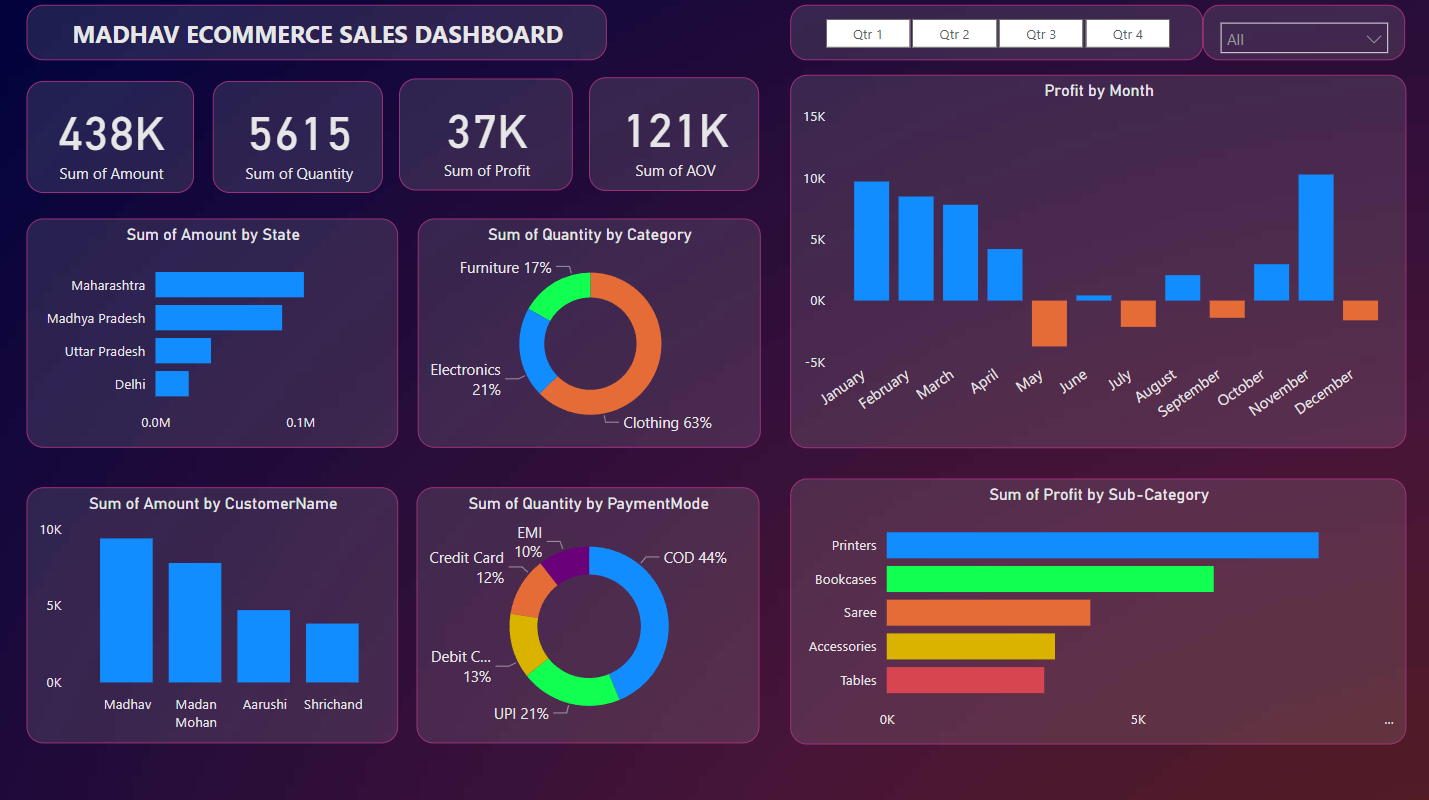

This screenshot's page, from the dashboard's own definition file:
{"tool":"powerbi","page":{"name":"Page 1","canvas":[1280,720],"ordinal":0},"visuals":[{"type":"textbox","box":[24.7,8.2,518.7,49.4],"z":0},{"type":"columnChart","title":"Profit by Month","fields":{"Category":["Orders.Order Date.Variation.Date Hierarchy.Month"],"Y":["Sum(Details.Profit)"]},"box":[706.7,70,550.3,333.4],"z":1000},{"type":"barChart","fields":{"Category":["Details.Sub-Category"],"Y":["Sum(Details.Profit)"]},"box":[706.7,430.9,550.3,237.4],"z":2000},{"type":"donutChart","fields":{"Category":["Details.Category"],"Y":["Sum(Details.Quantity)"]},"box":[374.6,199,306,204.5],"z":3000},{"type":"donutChart","fields":{"Y":["Sum(Details.Quantity)"],"Category":["Details.PaymentMode"]},"box":[373.2,439.1,306,229.2],"z":4000},{"type":"card","fields":{"Values":["Sum(Details.Amount)"]},"box":[24.7,75.5,149.6,100.2],"z":5000},{"type":"card","fields":{"Values":["Sum(Details.Quantity)"]},"box":[190.7,75.5,152.3,100.2],"z":6000},{"type":"card","fields":{"Values":["Sum(Details.Profit)"]},"box":[356.8,74.1,155.1,100.2],"z":7000},{"type":"card","fields":{"Values":["Sum(Details.AOV)"]},"box":[526.9,72.7,152.3,101.5],"z":8000},{"type":"barChart","fields":{"Category":["Orders.State"],"Y":["Sum(Details.Amount)"]},"box":[24.7,199,332.1,204.5],"z":9000},{"type":"columnChart","fields":{"Category":["Orders.CustomerName"],"Y":["Sum(Details.Amount)"]},"box":[24.7,439.1,332.1,229.2],"z":10000},{"type":"slicer","fields":{"Values":["Orders.Order Date.Variation.Date Hierarchy.Quarter"]},"box":[706.7,8.2,369.1,49.4],"z":11000},{"type":"slicer","fields":{"Values":["Orders.State"]},"box":[1075.8,8.2,181.1,49.4],"z":12000}]}

Visuals, with their boxes in screenshot pixels (x1, y1, x2, y2), scaled from the page's 1280x720 canvas onto the 1429x800 screenshot:
textbox: 28/9/607/64
"Profit by Month" columnChart: 789/78/1403/448
barChart - Details.Sub-Category x Sum(Details.Profit): 789/479/1403/743
donutChart - Details.Category x Sum(Details.Quantity): 418/221/760/448
donutChart - Sum(Details.Quantity) x Details.PaymentMode: 417/488/758/743
card - Sum(Details.Amount): 28/84/195/195
card - Sum(Details.Quantity): 213/84/383/195
card - Sum(Details.Profit): 398/82/571/194
card - Sum(Details.AOV): 588/81/758/194
barChart - Orders.State x Sum(Details.Amount): 28/221/398/448
columnChart - Orders.CustomerName x Sum(Details.Amount): 28/488/398/743
slicer - Orders.Order Date.Variation.Date Hierarchy.Quarter: 789/9/1201/64
slicer - Orders.State: 1201/9/1403/64
